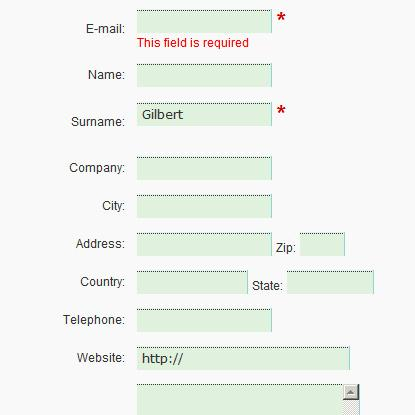field: (134, 345, 352, 371), (132, 101, 273, 128), (132, 193, 274, 219), (131, 63, 273, 88), (132, 156, 273, 181), (132, 307, 273, 332), (135, 9, 274, 34), (133, 231, 272, 256), (133, 269, 249, 295), (282, 270, 374, 294), (296, 232, 345, 255)
field_with_label: (75, 344, 354, 372), (71, 99, 276, 130), (71, 154, 275, 183), (62, 306, 275, 333), (75, 230, 274, 258), (89, 61, 275, 90), (86, 8, 276, 36), (102, 191, 275, 221), (81, 267, 251, 297), (255, 269, 376, 296), (275, 230, 347, 257)
